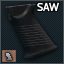SA-58 TAPCO SAW-style pistol grip Black: (0, 0, 64, 64)
